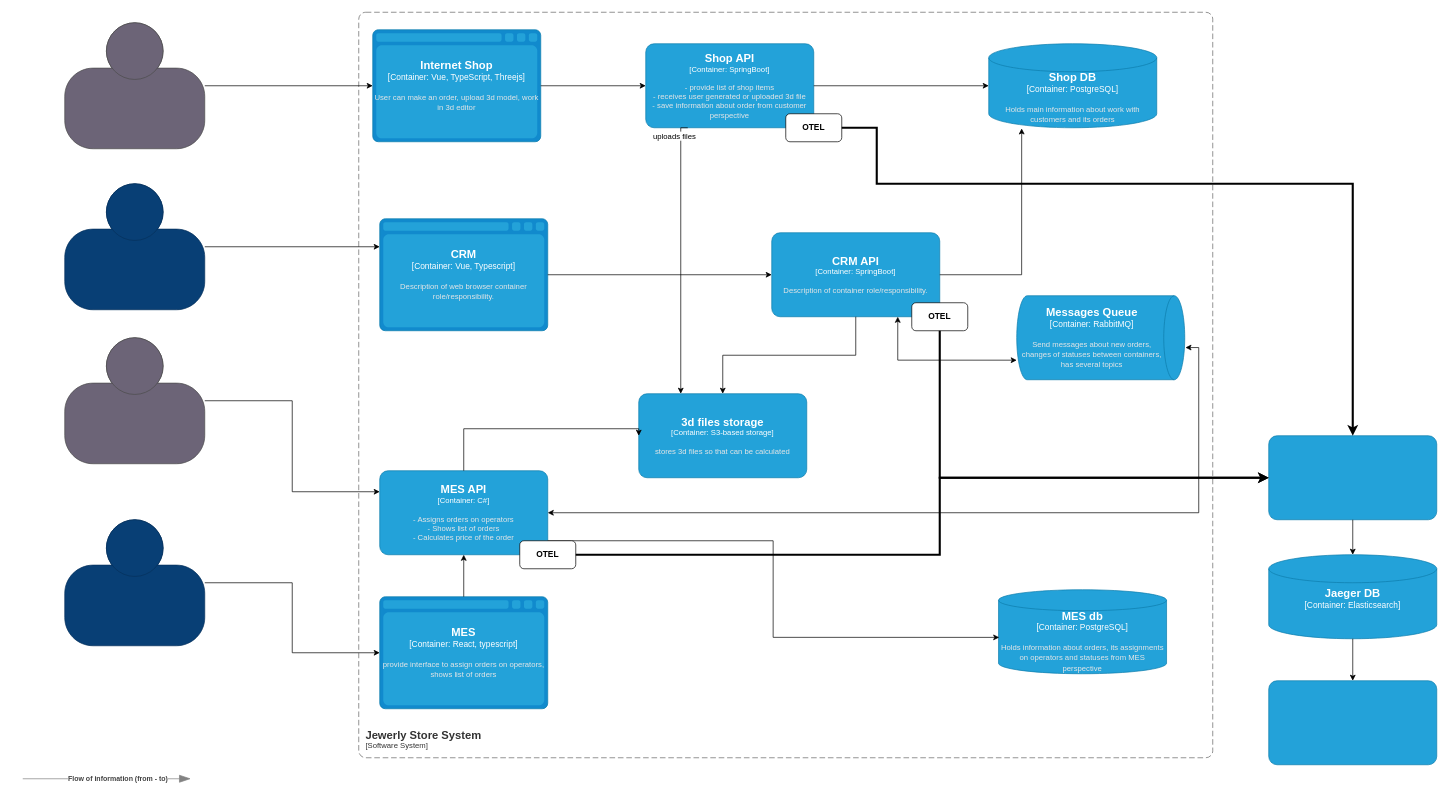
This 1449x802 diagram has some shape labels left out. The shapes that lost their labels are listed below. From the top down, each one's centre as x and y in pixels, then its label:
(x=134, y=85): Customer [Person] Description of external person.
(x=134, y=246): Seller [Person] Operates with order, confirms manufacturing for the user
(x=134, y=400): API user [Person] Description of external person.
(x=1352, y=477): Jaeger collector [Container: Go]
(x=134, y=582): Operator [Person] Takes order in work, manufactures jewerly
(x=1352, y=722): Jaeger App [Container: Go + JS]
